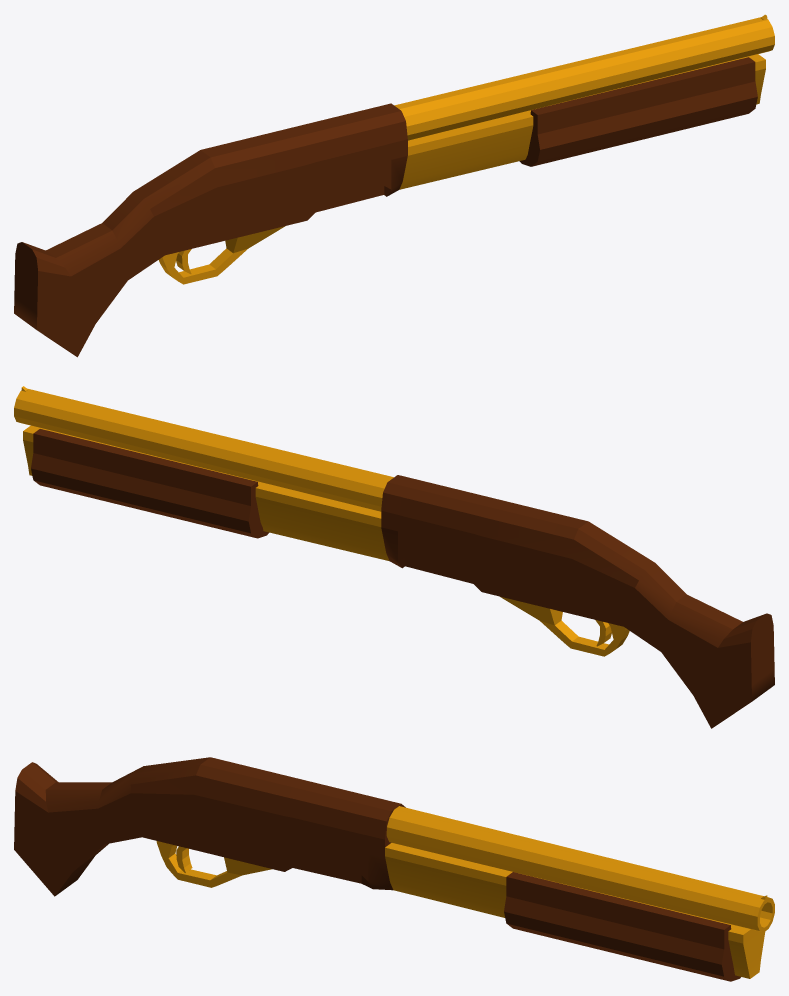
Rendered from shotgun (1).fbx.
3 views of the same model, one above another, from view 1: azimuth 30°, elevation 25°; view 2: azimuth 150°, elevation 25°; view 3: azimuth 330°, elevation 25° (orthographic).
Parts seen in each view (by area): view 1: Cube, Cylinder, Cylinder.001, Cube.001; view 2: Cube, Cylinder, Cylinder.001, Cube.001; view 3: Cube, Cylinder, Cylinder.001, Cube.001.
Boxes of the visible parts, x1,y1,x2,y2 form: Cube: (14, 54, 765, 357); Cylinder: (394, 14, 774, 140); Cylinder.001: (519, 57, 757, 166); Cube.001: (159, 226, 285, 284); Cube: (23, 425, 774, 728); Cylinder: (14, 386, 393, 511); Cylinder.001: (31, 429, 269, 538); Cube.001: (500, 596, 629, 656); Cube: (14, 757, 765, 978); Cylinder: (386, 806, 774, 932); Cylinder.001: (504, 872, 740, 981); Cube.001: (156, 841, 272, 887).
Size of the model in its own units: 295 by 62.09 by 25.09.
